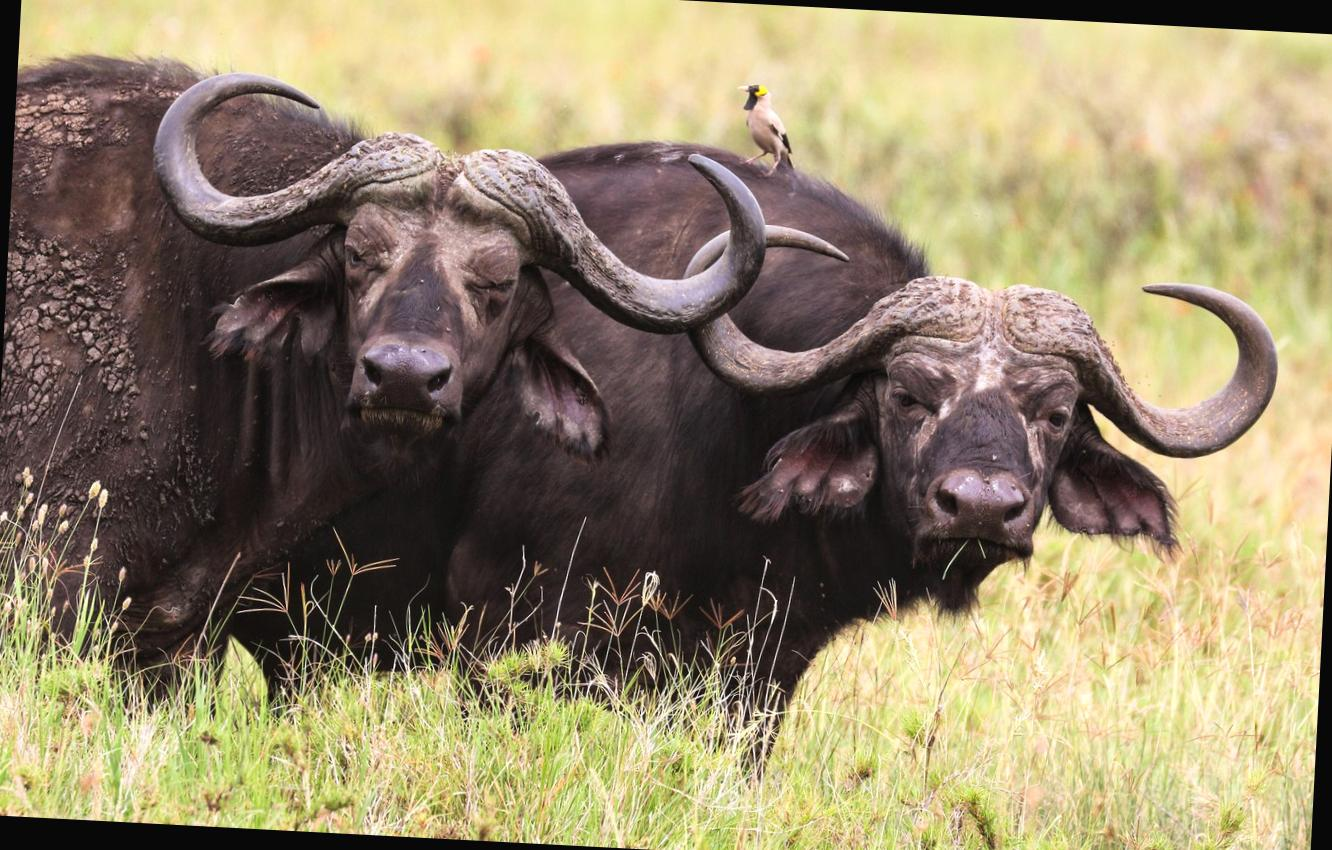Buffalo: (8, 30, 1272, 696)
